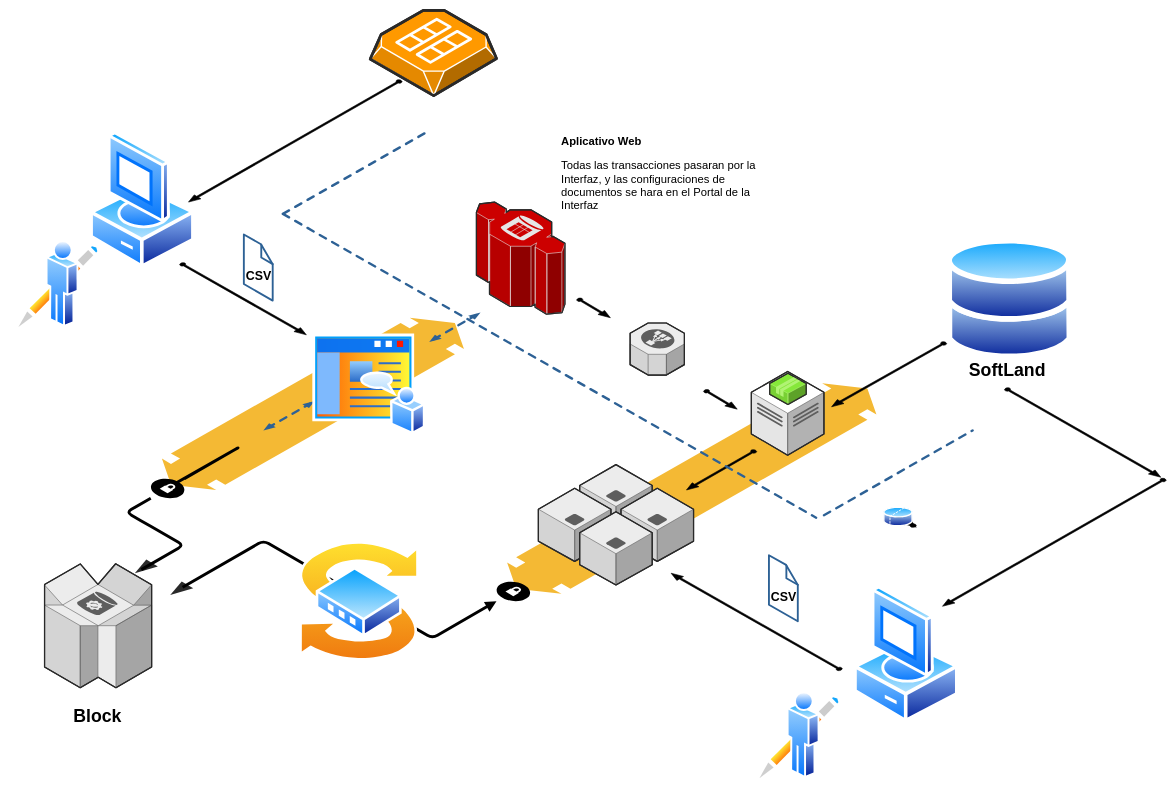
Image size: 1176x798. Some labels were removed from this diagram. Here are the shapes that lost their labels. From the top down, the box of each, then its label:
(370, 10, 496, 96): DMS1
(282, 213, 816, 518): GInterface
